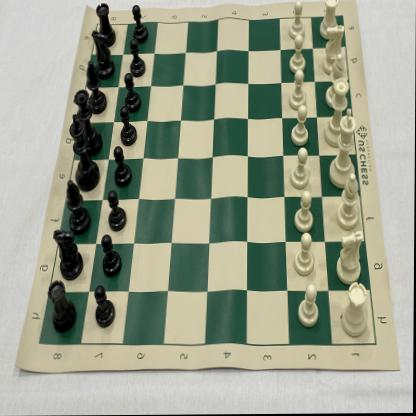black-bishop: (66, 179, 91, 234), (85, 60, 108, 114)
black-king: (69, 112, 101, 193)
black-knight: (53, 229, 84, 281), (91, 30, 115, 80)
black-pawn: (94, 285, 116, 328), (101, 235, 123, 276), (107, 192, 128, 232), (113, 147, 132, 187), (124, 73, 143, 113), (120, 107, 138, 147), (128, 39, 146, 78), (132, 2, 148, 43)
black-queen: (72, 88, 103, 156)
black-rook: (48, 280, 77, 332), (95, 4, 116, 47)
white-bishop: (337, 173, 362, 231), (326, 54, 347, 109)
white-king: (329, 108, 358, 190)
white-knight: (336, 229, 365, 286), (322, 24, 346, 76)
white-pawn: (298, 281, 320, 328), (294, 231, 316, 276), (290, 147, 313, 189), (294, 190, 316, 232), (290, 105, 311, 146), (289, 36, 308, 74), (290, 70, 308, 110), (290, 2, 308, 40)
white-queen: (324, 78, 351, 148)
white-rook: (342, 282, 372, 339), (319, 0, 340, 41)
